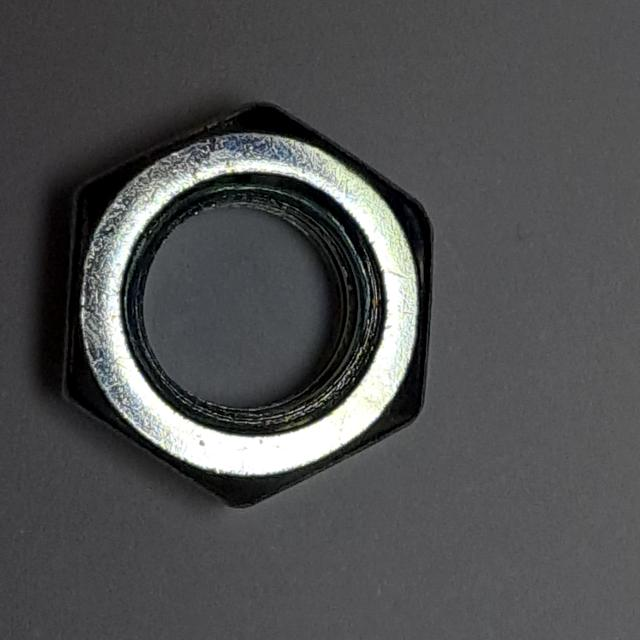Excellent: (55, 81, 447, 531)
